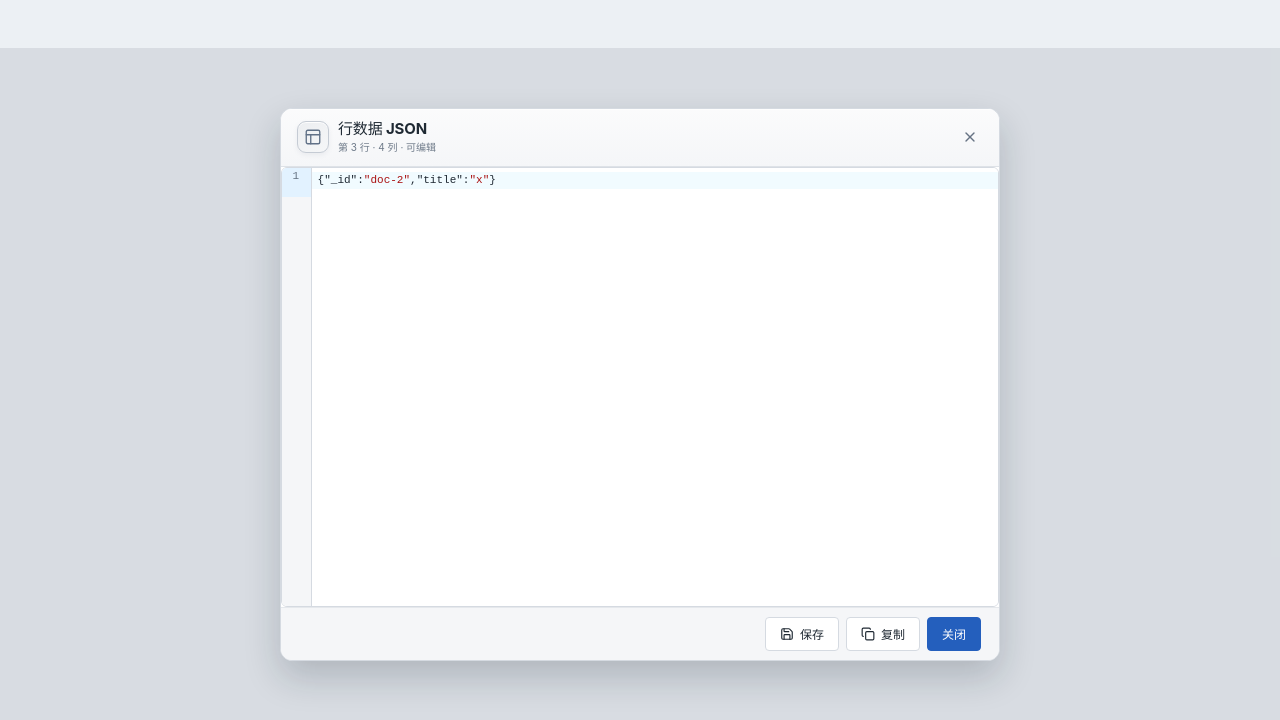
RowJsonViewer › rejects modifications to the document _id
Click the button "保存".
click(802, 634)  # box [765, 616, 839, 650]
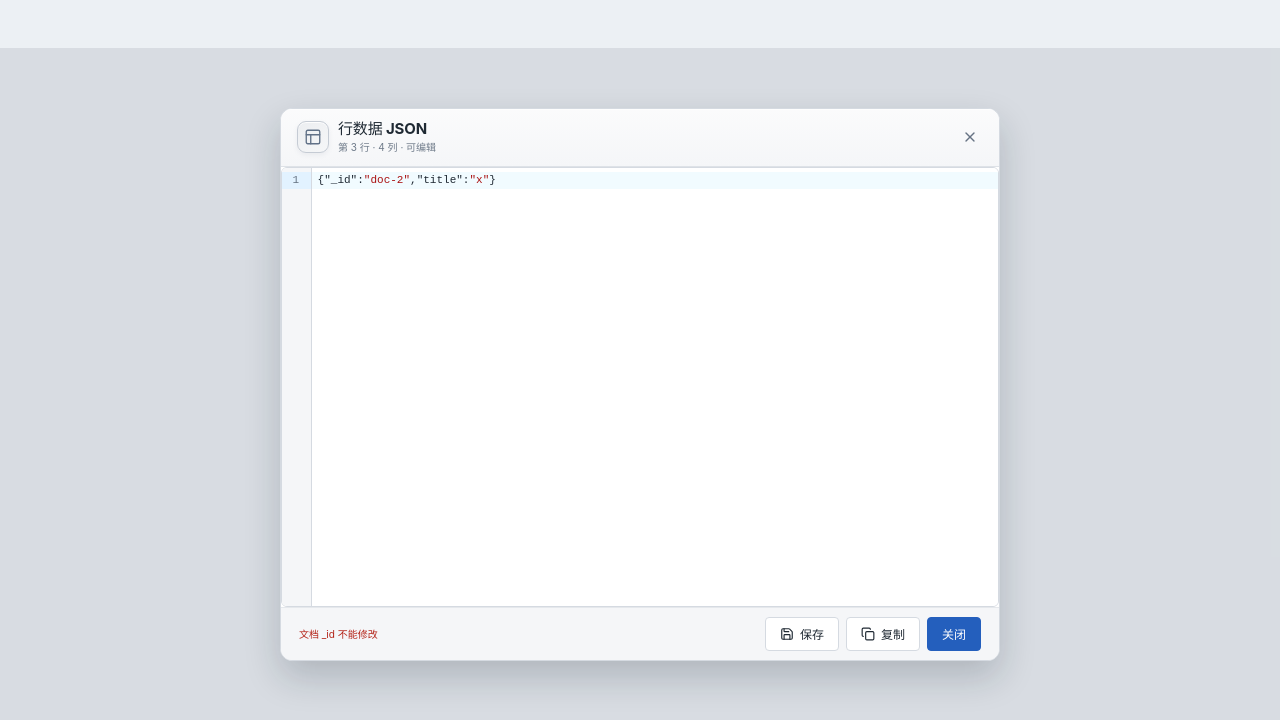
Check: the text "文档 _id 不能修改" is shown, box [299, 626, 378, 641]
